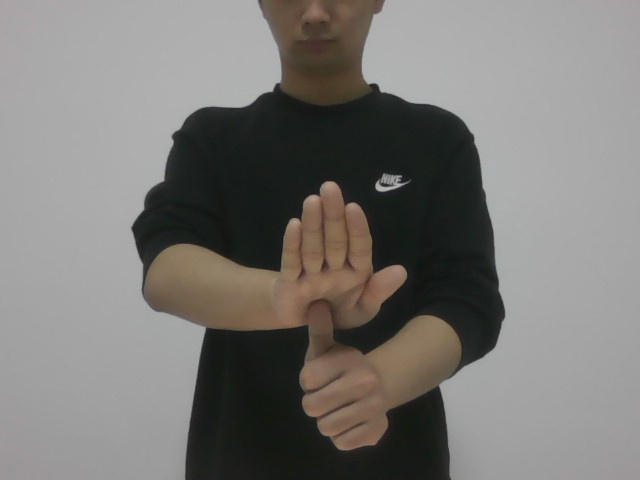love: (267, 171, 421, 463)
